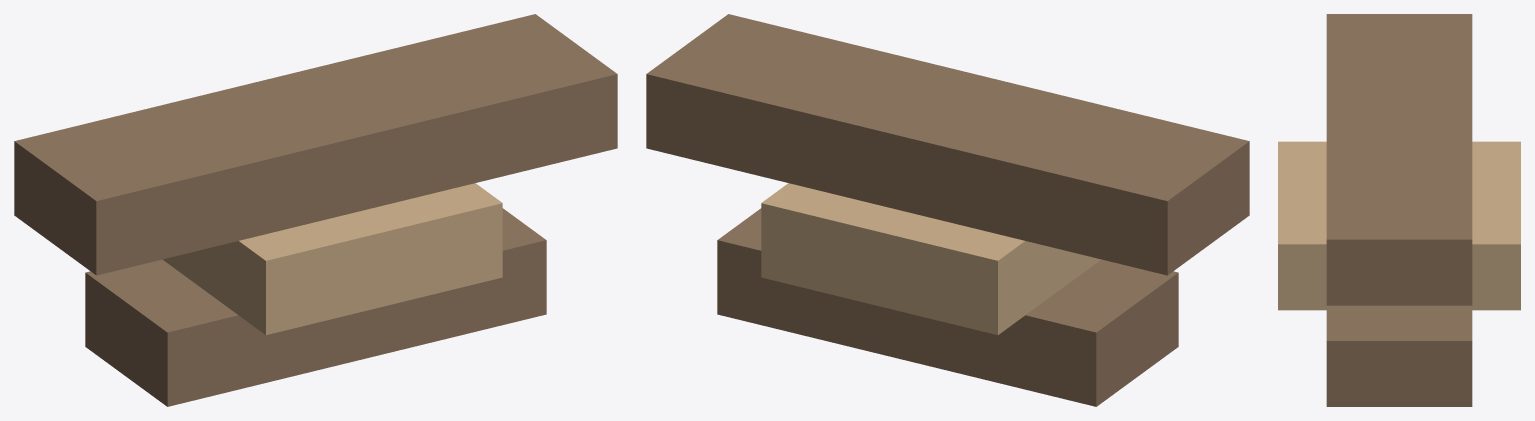
The model's file is feudal-japan-castle-town-bracket-cluster-c13beba9__26347.glb.
3 views of the same model, side by side, from view 1: azimuth 30°, elevation 25°; view 2: azimuth 150°, elevation 25°; view 3: azimuth 270°, elevation 25° (orthographic). The views are drawn at different scales.
Visible parts, largest first — view 1: bracket-cluster; view 2: bracket-cluster; view 3: bracket-cluster.
Boxes of the visible parts, x1,y1,x2,y2 form: bracket-cluster: (14,14,617,406); bracket-cluster: (646,14,1249,406); bracket-cluster: (1278,14,1520,406).
Bounding box in the file's own units: 1.1 × 0.45 × 0.5.
